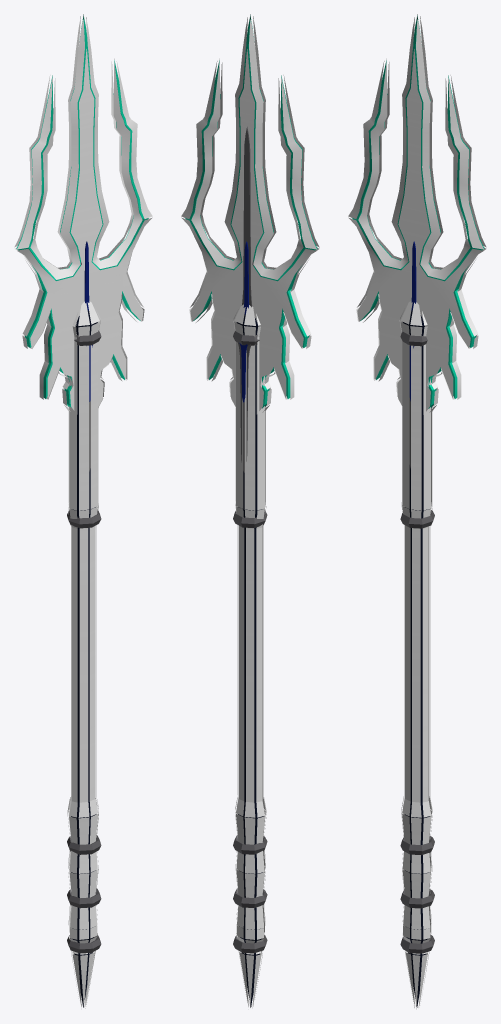
The model's file is hydraweapon.obj.
3 views of the same model, side by side, from view 1: azimuth 30°, elevation 25°; view 2: azimuth 150°, elevation 25°; view 3: azimuth 330°, elevation 25° (orthographic).
Parts seen in each view (by area): view 1: Meshpart12, Meshpart3, Meshpart4, Meshpart8, Meshpart2, Meshpart9, Meshpart11, Meshpart6, Meshpart5, Meshpart10, Meshpart1, Meshpart15 (+2 smaller); view 2: Meshpart9, Meshpart6, Meshpart4, Meshpart8, Meshpart2, Meshpart12, Handle3, Meshpart11, Meshpart3, Handle2, Meshpart5, Meshpart10 (+4 smaller); view 3: Meshpart12, Meshpart3, Meshpart5, Meshpart8, Meshpart2, Meshpart9, Meshpart10, Meshpart6, Meshpart11, Meshpart14, Meshpart1, Meshpart15 (+1 smaller).
Part boxes in pixels (x1,y1,x2,y2): Meshpart12: [17, 16, 152, 414]; Meshpart3: [78, 301, 99, 1008]; Meshpart4: [67, 312, 81, 1006]; Meshpart8: [16, 15, 148, 407]; Meshpart2: [71, 310, 97, 1007]; Meshpart9: [14, 14, 134, 407]; Meshpart11: [22, 260, 137, 411]; Meshpart6: [68, 408, 82, 1006]; Meshpart5: [85, 310, 100, 1004]; Meshpart10: [30, 251, 144, 407]; Meshpart1: [67, 835, 101, 854]; Meshpart15: [67, 888, 101, 908]; Meshpart9: [181, 16, 316, 414]; Meshpart6: [234, 304, 255, 1007]; Meshpart4: [252, 314, 266, 1008]; Meshpart8: [185, 15, 317, 408]; Meshpart2: [236, 314, 263, 1007]; Meshpart12: [199, 14, 319, 407]; Handle3: [241, 127, 253, 307]; Meshpart11: [196, 260, 311, 412]; Meshpart3: [251, 407, 265, 1006]; Handle2: [238, 342, 250, 472]; Meshpart5: [233, 309, 249, 1005]; Meshpart10: [189, 251, 303, 407]; Meshpart12: [348, 16, 483, 414]; Meshpart3: [400, 300, 422, 1009]; Meshpart5: [418, 311, 432, 1007]; Meshpart8: [352, 15, 484, 408]; Meshpart2: [402, 310, 429, 1007]; Meshpart9: [366, 14, 486, 408]; Meshpart10: [363, 260, 478, 412]; Meshpart6: [417, 408, 431, 1005]; Meshpart11: [356, 251, 470, 406]; Meshpart14: [400, 934, 434, 953]; Meshpart1: [400, 836, 434, 855]; Meshpart15: [400, 889, 434, 908].
Bounding box in the file's own units: 1.14 × 7.91 × 0.259.
Materials: 7 (3 with a texture image).
